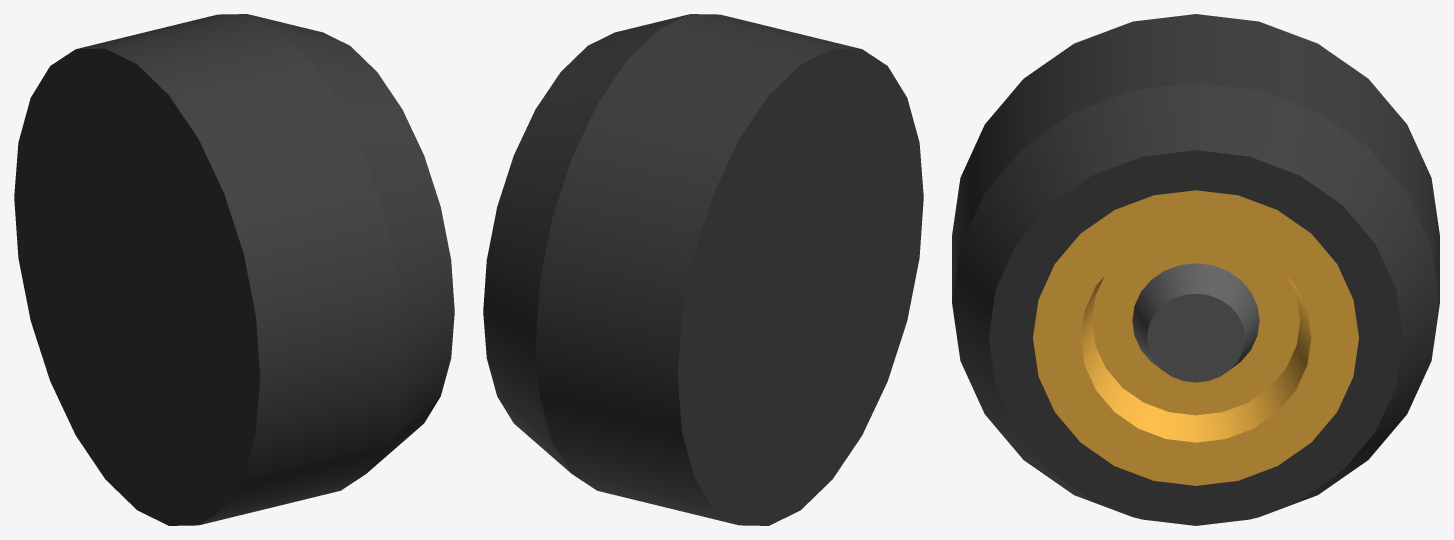
File: wheelTractorBack.obj
3 views of the same model, side by side, from view 1: azimuth 30°, elevation 25°; view 2: azimuth 150°, elevation 25°; view 3: azimuth 270°, elevation 25° (orthographic).
Visible parts, largest first — view 1: wheelTractorBack; view 2: wheelTractorBack; view 3: wheelTractorBack.
Boxes of the visible parts, x1,y1,x2,y2 form: wheelTractorBack: [14, 14, 454, 525]; wheelTractorBack: [483, 14, 923, 525]; wheelTractorBack: [952, 14, 1439, 525].
Size of the model in its own units: 0.4376 by 0.8752 by 0.8752.
